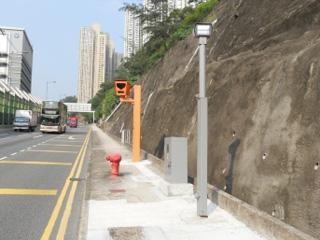Monitor: (182, 13, 216, 50), (113, 70, 137, 109)
